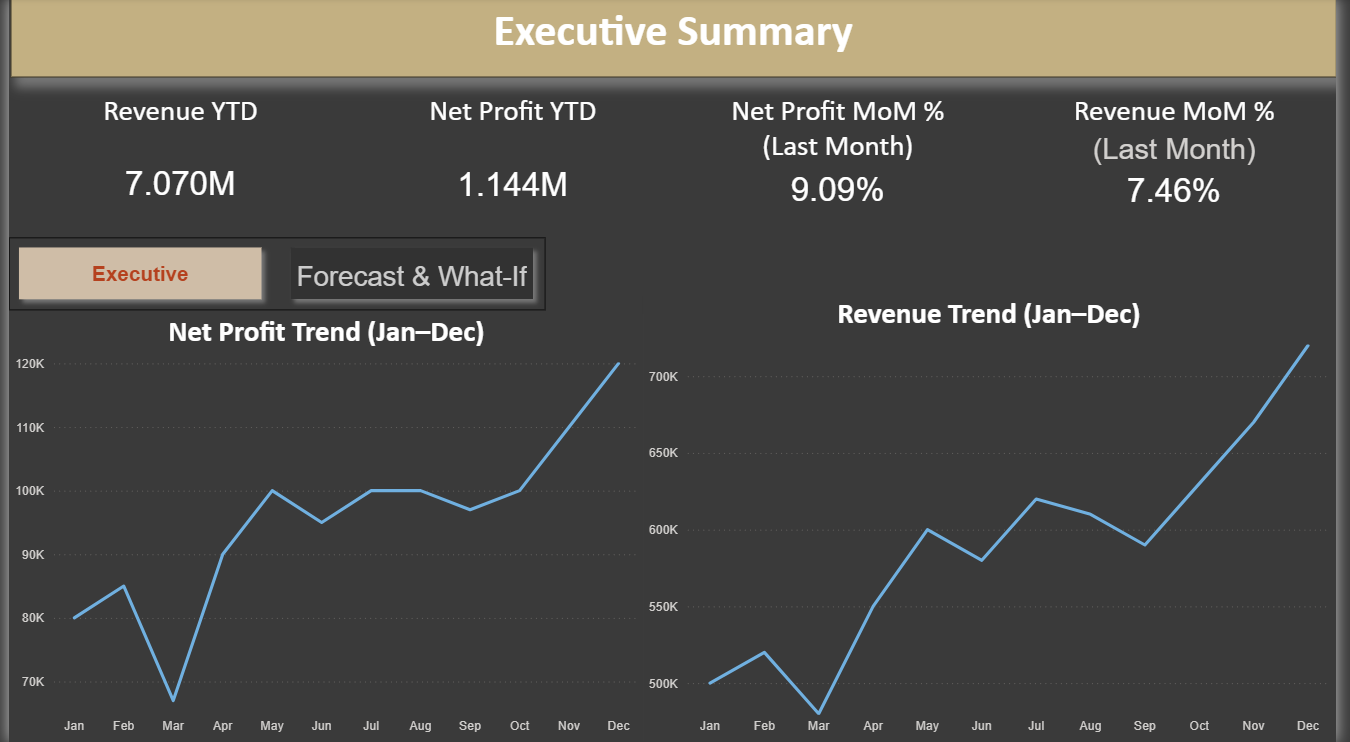

What the dashboard file says about the page in this screenshot:
{"tool":"powerbi","page":{"name":"Executive","canvas":[1280,720],"ordinal":0},"visuals":[{"type":"card","title":"Net Profit YTD","fields":{"Values":["Finance_Model.Net Profit YTD"]},"box":[346.5,92.5,279.1,141.1],"z":0},{"type":"card","title":"Revenue YTD","fields":{"Values":["Finance_Model.Revenue YTD"]},"box":[25.1,92.5,280.7,139.5],"z":1000},{"type":"lineChart","title":"Revenue Trend (Jan–Dec)","fields":{"Y":["Finance_Model.Revenue Amount"],"Category":["Finance_Model.Month"]},"box":[611.5,288.5,667.9,431.2],"z":2000},{"type":"lineChart","title":"Net Profit Trend (Jan–Dec)","fields":{"Category":["Finance_Model.Month"],"Y":["Finance_Model.Net Profit Amount"]},"box":[0,306.1,612.3,413.5],"z":3000},{"type":"card","title":"Net Profit MoM % (Last Month) ","fields":{"Values":["Finance_Model.Net Profit MoM % (Last Month)"]},"box":[672.6,92.5,254,117.6],"z":4000},{"type":"card","title":"Revenue MoM %","fields":{"Values":["Finance_Model.Revenue MoM % (Last Month)"]},"box":[968.9,92.5,310.4,117.6],"z":5000},{"type":"textbox","box":[1.8,0,1279.1,77.4],"z":6000},{"type":"pageNavigator","box":[0,232.2,517.3,70.4],"z":7000}]}

Visuals, with their boxes in screenshot pixels (x1, y1, x2, y2), scaled from the page's 1280x720 canvas onto the 1350x742 screenshot:
"Net Profit YTD" card: Rect(365, 95, 660, 241)
"Revenue YTD" card: Rect(26, 95, 323, 239)
"Revenue Trend (Jan–Dec)" lineChart: Rect(645, 297, 1349, 741)
"Net Profit Trend (Jan–Dec)" lineChart: Rect(0, 315, 646, 741)
"Net Profit MoM % (Last Month) " card: Rect(709, 95, 977, 217)
"Revenue MoM %" card: Rect(1022, 95, 1349, 217)
textbox: Rect(2, 0, 1349, 80)
pageNavigator: Rect(0, 239, 546, 312)
